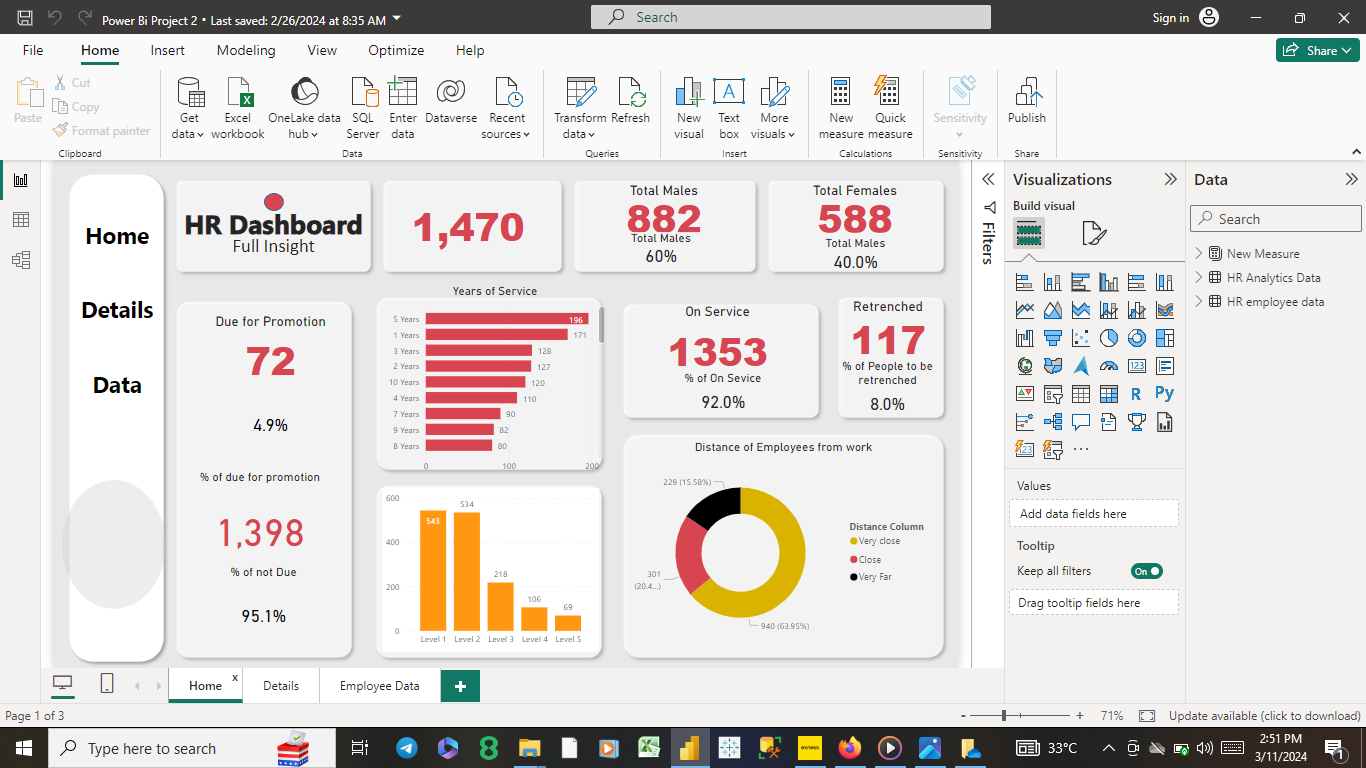

The dashboard page shown, as its layout file describes it:
{"tool":"powerbi","page":{"name":"Home","canvas":[1280,720],"ordinal":0},"visuals":[{"type":"shape","box":[12.8,11.3,151.7,708.7],"z":0},{"type":"shape","box":[1003.5,19.8,266.5,147.4],"z":1000},{"type":"shape","box":[728.5,19.8,275,147.4],"z":2000},{"type":"shape","box":[457.8,19.8,270.7,147.4],"z":3000},{"type":"shape","box":[164.4,19.8,293.4,147.4],"z":4000},{"type":"shape","box":[164.4,191.3,266.5,523],"z":5000},{"type":"shape","box":[447.9,185.7,337.3,262.2],"z":6000},{"type":"shape","box":[798,195.6,294.8,178.6],"z":7000},{"type":"shape","box":[798,379.8,472,334.5],"z":8000},{"type":"shape","box":[1102.7,185.7,167.2,188.5],"z":9000},{"type":"textbox","box":[120.5,59.5,381.3,66.6],"z":10000},{"type":"textbox","box":[120.5,100.6,381.3,59.5],"z":11000},{"type":"shape","box":[297.6,46.8,28.3,25.5],"z":12000},{"type":"card","title":"Total Employees","fields":{"Values":["New Measure.Total Emp"]},"box":[448.1,35.8,277.8,114.5],"z":13000},{"type":"card","title":"Total Males","fields":{"Values":["New Measure.Male"]},"box":[738.8,31.5,252,75.9],"z":14000},{"type":"card","title":"Total Males","fields":{"Values":["New Measure.% Male"]},"box":[739.8,100.6,240.9,49.6],"z":15000},{"type":"card","title":"Total Females","fields":{"Values":["New Measure.Female"]},"box":[1009.1,31.2,252.3,76.5],"z":16000},{"type":"card","title":"Total Males","fields":{"Values":["New Measure.% Female"]},"box":[1010.6,107.7,250.9,52.4],"z":17000},{"type":"card","title":"Due for Promotion","fields":{"Values":["New Measure.Due for Promotion"]},"box":[171.5,216.9,270.7,109.1],"z":18000},{"type":"card","title":"% of due for promotion","fields":{"Values":["New Measure.Not due"]},"box":[161.6,439.4,260.8,144.6],"z":19000},{"type":"card","title":"% Due for Promotion","fields":{"Values":["New Measure.% due for promtion"]},"box":[158.7,326,296.2,97.8],"z":20000},{"type":"shape","box":[447.9,452.1,337.3,262.2],"z":21000},{"type":"card","title":"% of not Due","fields":{"Values":["New Measure.% Not Due"]},"box":[171.5,574,250.9,123.3],"z":22000},{"type":"barChart","title":" Years of Service ","fields":{"Category":["HR Analytics Data.Years of Service"],"Y":["CountNonNull(HR Analytics Data.Years of Service)"]},"box":[464.9,175.7,320.3,276.4],"z":23000},{"type":"columnChart","fields":{"Category":["HR Analytics Data.Job Level"],"Y":["New Measure.Total Emp"]},"box":[464.9,464.9,307.6,232.4],"z":24000},{"type":"card","title":"On Service","fields":{"Values":["New Measure.On Service"]},"box":[798,202.7,284.9,112],"z":25000},{"type":"card","title":"% of On Sevice","fields":{"Values":["New Measure.% on service"]},"box":[813.5,299.1,269.3,66.6],"z":26000},{"type":"card","title":"Retrenched","fields":{"Values":["New Measure.Will be Retrenched"]},"box":[1109.8,195.6,144.6,92.1],"z":27000},{"type":"card","title":"% of People to be retrenched","fields":{"Values":["New Measure.% of will be retrenched"]},"box":[1082.8,282,197,87.9],"z":28000},{"type":"donutChart","title":"Distance of Employees from work","fields":{"Category":["HR Analytics Data.Distance Column"],"Y":["New Measure.Total Emp"]},"box":[813.5,396.9,440.8,300.5],"z":29000},{"type":"actionButton","box":[22.2,181.1,133.3,59.8],"z":30000},{"type":"actionButton","box":[22.2,76.9,133.3,59.8],"z":31000},{"type":"actionButton","box":[22.2,287.1,133.3,59.8],"z":32000},{"type":"shape","box":[12,452.9,147,182.9],"z":33000}]}

Visuals, with their boxes on the page's 1280x720 design canvas (x1, y1, x2, y2). These are canvas units, not pixel positions in the 1366x768 screenshot, which may show the page scaled, cropped or inside an application window:
shape: pyautogui.locateOnScreen(13, 11, 164, 720)
shape: pyautogui.locateOnScreen(1004, 20, 1270, 167)
shape: pyautogui.locateOnScreen(728, 20, 1004, 167)
shape: pyautogui.locateOnScreen(458, 20, 728, 167)
shape: pyautogui.locateOnScreen(164, 20, 458, 167)
shape: pyautogui.locateOnScreen(164, 191, 431, 714)
shape: pyautogui.locateOnScreen(448, 186, 785, 448)
shape: pyautogui.locateOnScreen(798, 196, 1093, 374)
shape: pyautogui.locateOnScreen(798, 380, 1270, 714)
shape: pyautogui.locateOnScreen(1103, 186, 1270, 374)
textbox: pyautogui.locateOnScreen(120, 60, 502, 126)
textbox: pyautogui.locateOnScreen(120, 101, 502, 160)
shape: pyautogui.locateOnScreen(298, 47, 326, 72)
"Total Employees" card: pyautogui.locateOnScreen(448, 36, 726, 150)
"Total Males" card: pyautogui.locateOnScreen(739, 32, 991, 107)
"Total Males" card: pyautogui.locateOnScreen(740, 101, 981, 150)
"Total Females" card: pyautogui.locateOnScreen(1009, 31, 1261, 108)
"Total Males" card: pyautogui.locateOnScreen(1011, 108, 1262, 160)
"Due for Promotion" card: pyautogui.locateOnScreen(172, 217, 442, 326)
"% of due for promotion" card: pyautogui.locateOnScreen(162, 439, 422, 584)
"% Due for Promotion" card: pyautogui.locateOnScreen(159, 326, 455, 424)
shape: pyautogui.locateOnScreen(448, 452, 785, 714)
"% of not Due" card: pyautogui.locateOnScreen(172, 574, 422, 697)
" Years of Service " barChart: pyautogui.locateOnScreen(465, 176, 785, 452)
columnChart - HR Analytics Data.Job Level x New Measure.Total Emp: pyautogui.locateOnScreen(465, 465, 772, 697)
"On Service" card: pyautogui.locateOnScreen(798, 203, 1083, 315)
"% of On Sevice" card: pyautogui.locateOnScreen(814, 299, 1083, 366)
"Retrenched" card: pyautogui.locateOnScreen(1110, 196, 1254, 288)
"% of People to be retrenched" card: pyautogui.locateOnScreen(1083, 282, 1280, 370)
"Distance of Employees from work" donutChart: pyautogui.locateOnScreen(814, 397, 1254, 697)
actionButton: pyautogui.locateOnScreen(22, 181, 156, 241)
actionButton: pyautogui.locateOnScreen(22, 77, 156, 137)
actionButton: pyautogui.locateOnScreen(22, 287, 156, 347)
shape: pyautogui.locateOnScreen(12, 453, 159, 636)
